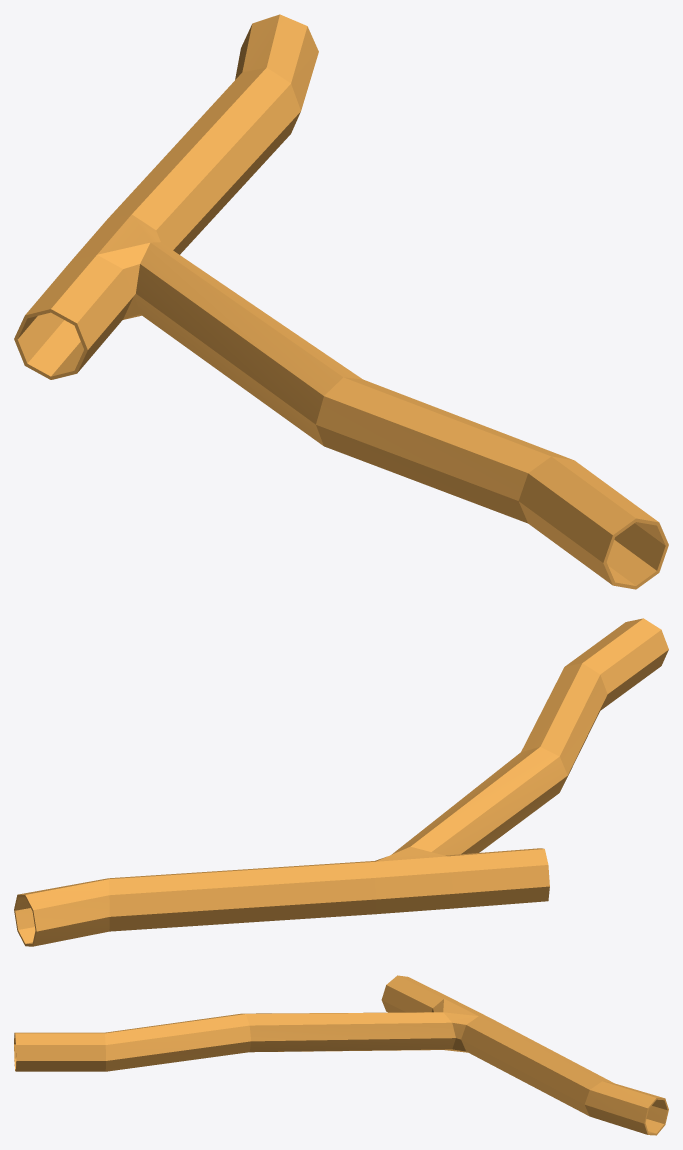
Rendered from HollowBranch_Y_Branch.fbx.
3 views of the same model, one above another, from view 1: azimuth 30°, elevation 25°; view 2: azimuth 150°, elevation 25°; view 3: azimuth 270°, elevation 25° (orthographic). The views are drawn at different scales.
Visible parts, largest first — view 1: HollowBranch1-c; view 2: HollowBranch1-c; view 3: HollowBranch1-c.
Part boxes in pixels (x1,y1,x2,y2): HollowBranch1-c: [14, 14, 668, 589]; HollowBranch1-c: [14, 618, 668, 946]; HollowBranch1-c: [14, 975, 668, 1135].
Bounding box in the file's own units: 15384 × 2000 × 31502.
